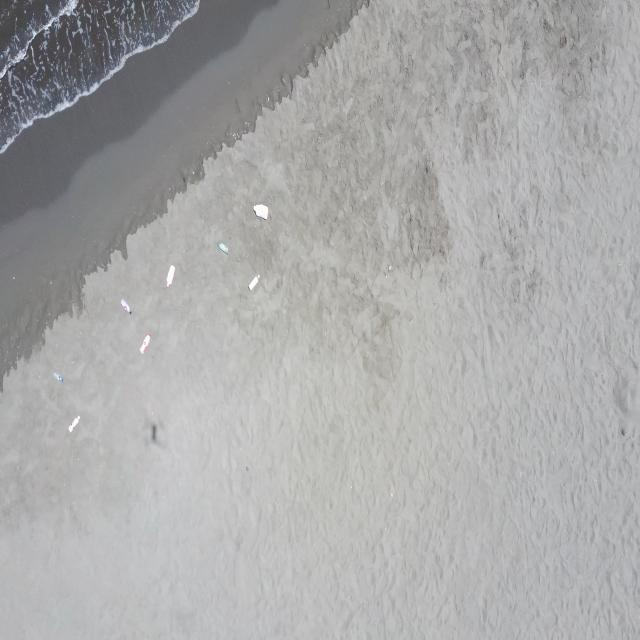Garbage: (253, 203, 267, 219), (139, 333, 150, 352), (247, 273, 260, 289), (68, 415, 79, 432), (120, 298, 131, 312), (166, 264, 173, 286), (216, 241, 227, 253), (52, 372, 63, 382), (151, 423, 156, 440), (384, 264, 391, 276), (387, 264, 391, 271)
